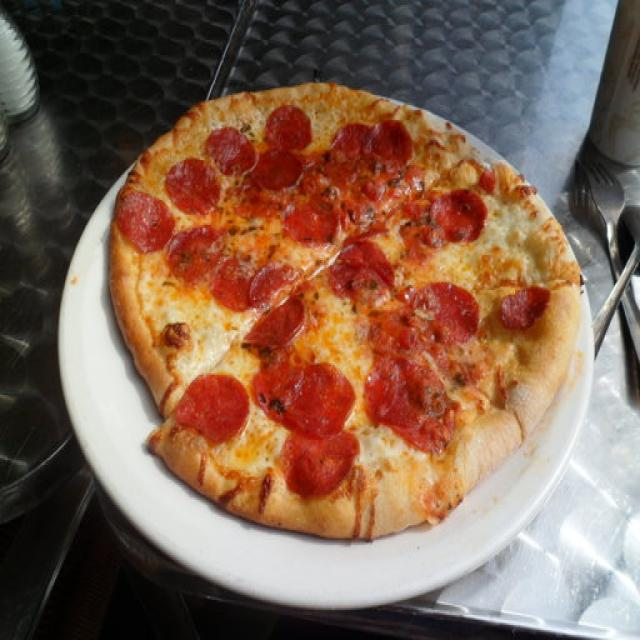Pepperoni: (371, 340, 456, 450), (258, 362, 350, 428), (284, 432, 356, 495), (412, 282, 478, 337), (180, 379, 242, 437), (334, 242, 396, 299), (119, 190, 173, 251), (244, 296, 302, 351), (170, 226, 219, 280), (434, 190, 488, 238), (169, 162, 214, 215), (370, 116, 414, 168), (288, 200, 334, 249), (208, 125, 254, 172), (216, 256, 251, 316), (266, 108, 317, 148), (247, 260, 291, 303), (257, 151, 303, 190), (500, 286, 545, 318), (333, 123, 365, 160)
Pizza: (108, 83, 580, 542)
